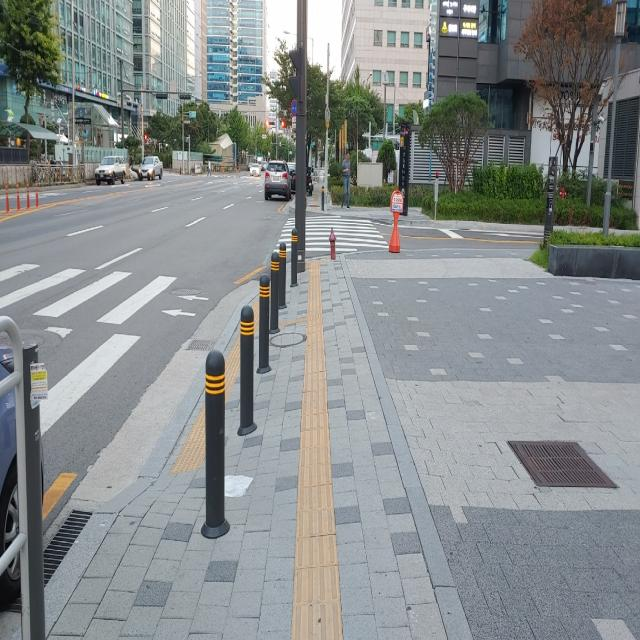횡단보도: (26, 271, 195, 394), (273, 214, 389, 253)
